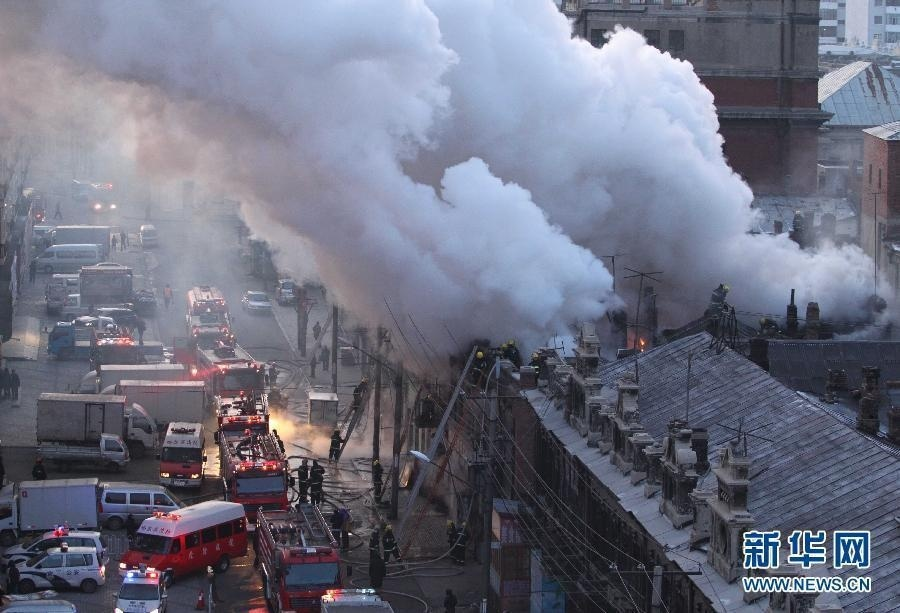fire: (628, 331, 648, 350)
